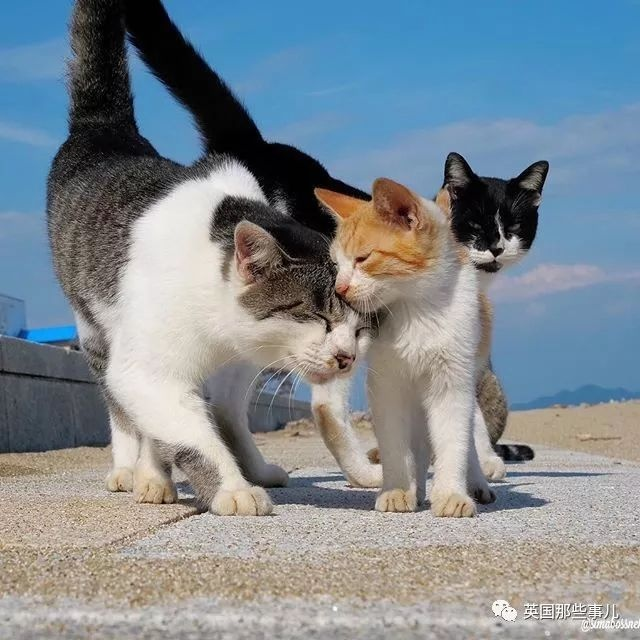cat: (45, 1, 382, 518), (119, 1, 551, 291), (314, 177, 505, 518)
